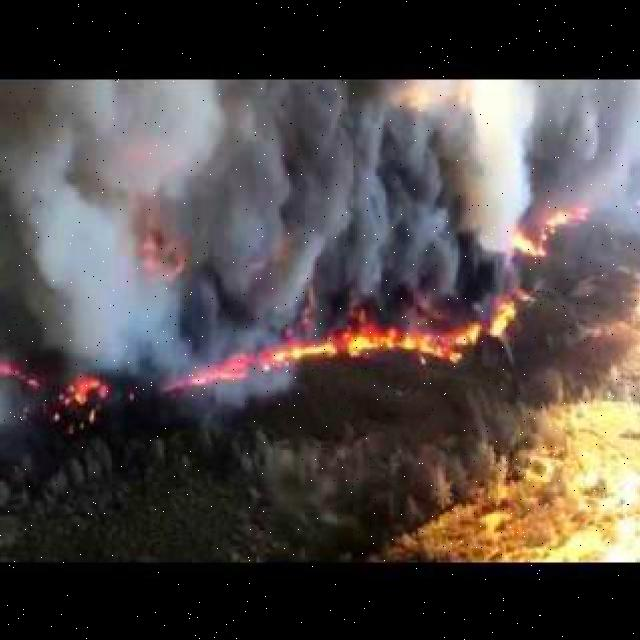fire: (260, 325, 440, 377), (39, 363, 118, 434), (454, 299, 526, 351), (516, 208, 577, 261), (190, 347, 249, 400)
smoke: (1, 79, 522, 297)
